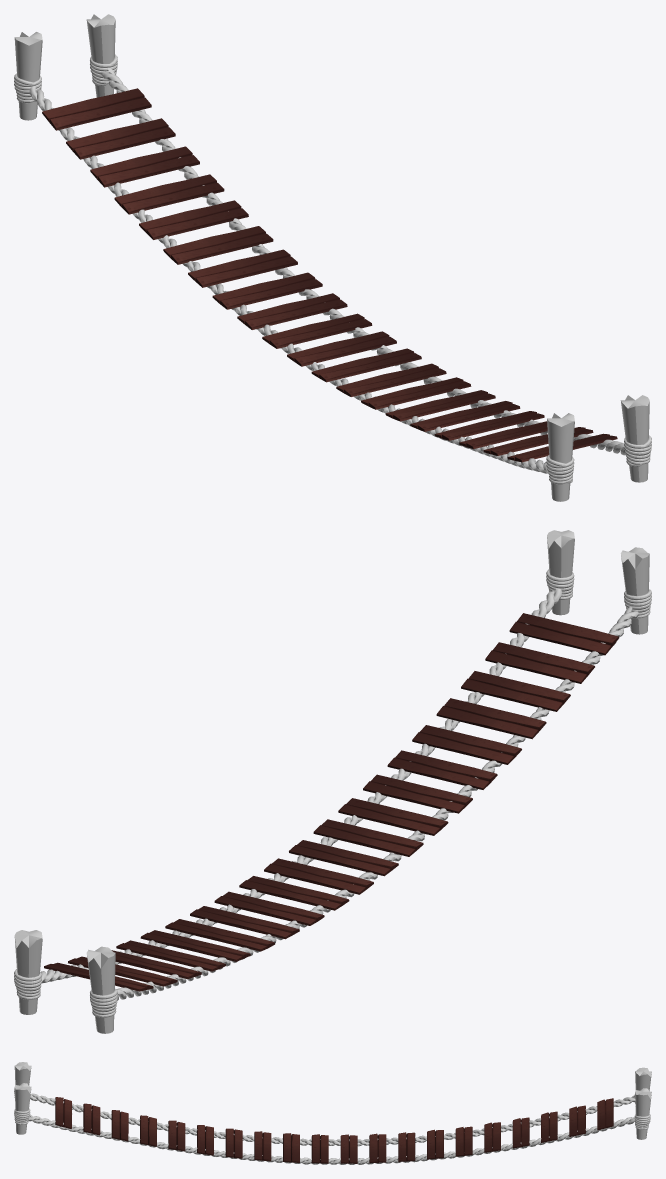
Rendered from rope_bridge_placeholder (1).fbx.
3 renders of one model, top to bottom at view 1: azimuth 30°, elevation 25°; view 2: azimuth 150°, elevation 25°; view 3: azimuth 270°, elevation 25°, orthographic. The views are drawn at different scales.
Visible parts, largest first — view 1: Cylinder; view 2: Cylinder; view 3: Cylinder.
Part boxes in pixels (x1,y1,x2,y2): Cylinder: (14,14,651,501); Cylinder: (14,530,651,1033); Cylinder: (14,1062,651,1164).
Size of the model in its own units: 865 by 1106 by 8041.
